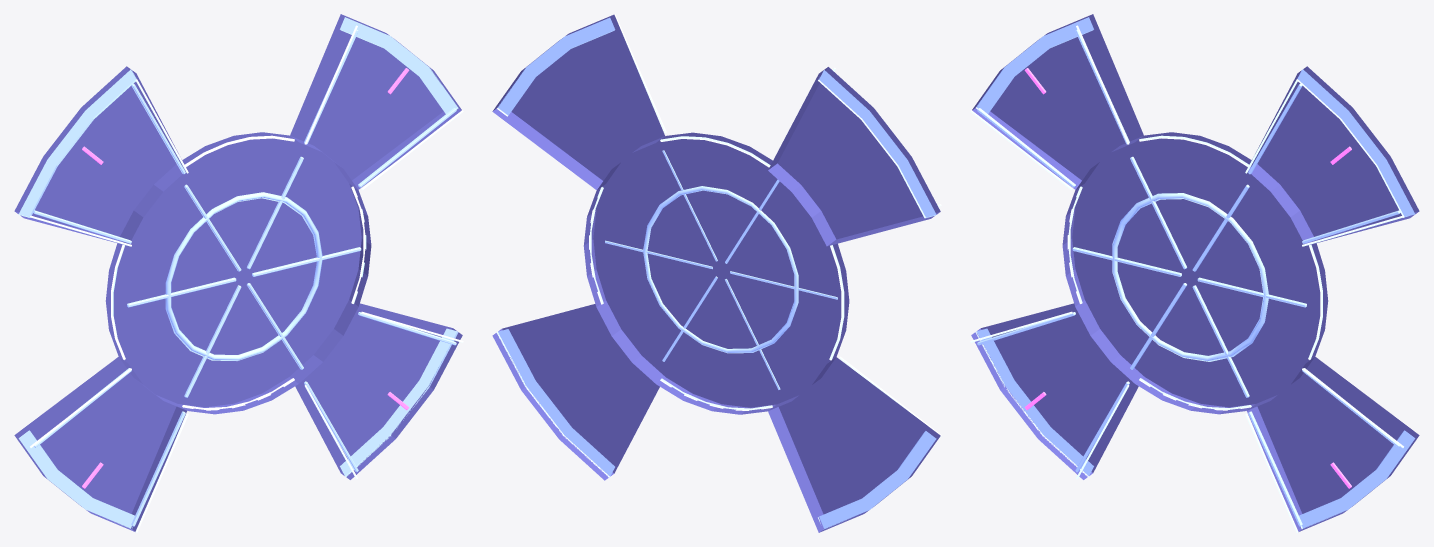
File: prism-panel-fun6-low.glb
3 renders of one model, left to right at view 1: azimuth 30°, elevation 25°; view 2: azimuth 150°, elevation 25°; view 3: azimuth 330°, elevation 25°, orthographic.
Parts seen in each view (by area): view 1: RENDER_PANEL_SHELL, RENDER_PANEL_FRAME, RENDER_PANEL_SIGNAL, RENDER_PANEL_HAZARD; view 2: RENDER_PANEL_SHELL, RENDER_PANEL_FRAME, RENDER_PANEL_SIGNAL; view 3: RENDER_PANEL_SHELL, RENDER_PANEL_FRAME, RENDER_PANEL_SIGNAL, RENDER_PANEL_HAZARD.
Boxes of the visible parts, bbox=[...] form: RENDER_PANEL_SHELL: bbox=[14, 14, 462, 531]; RENDER_PANEL_FRAME: bbox=[18, 17, 458, 528]; RENDER_PANEL_SIGNAL: bbox=[30, 25, 463, 532]; RENDER_PANEL_HAZARD: bbox=[82, 68, 409, 488]; RENDER_PANEL_SHELL: bbox=[492, 14, 940, 532]; RENDER_PANEL_FRAME: bbox=[496, 17, 936, 529]; RENDER_PANEL_SIGNAL: bbox=[589, 14, 941, 436]; RENDER_PANEL_SHELL: bbox=[971, 14, 1419, 531]; RENDER_PANEL_FRAME: bbox=[975, 17, 1415, 529]; RENDER_PANEL_SIGNAL: bbox=[970, 25, 1403, 532]; RENDER_PANEL_HAZARD: bbox=[1024, 68, 1351, 488].
Size of what is drawn, in the model's own units: 36.85 by 36.85 by 1.95.
